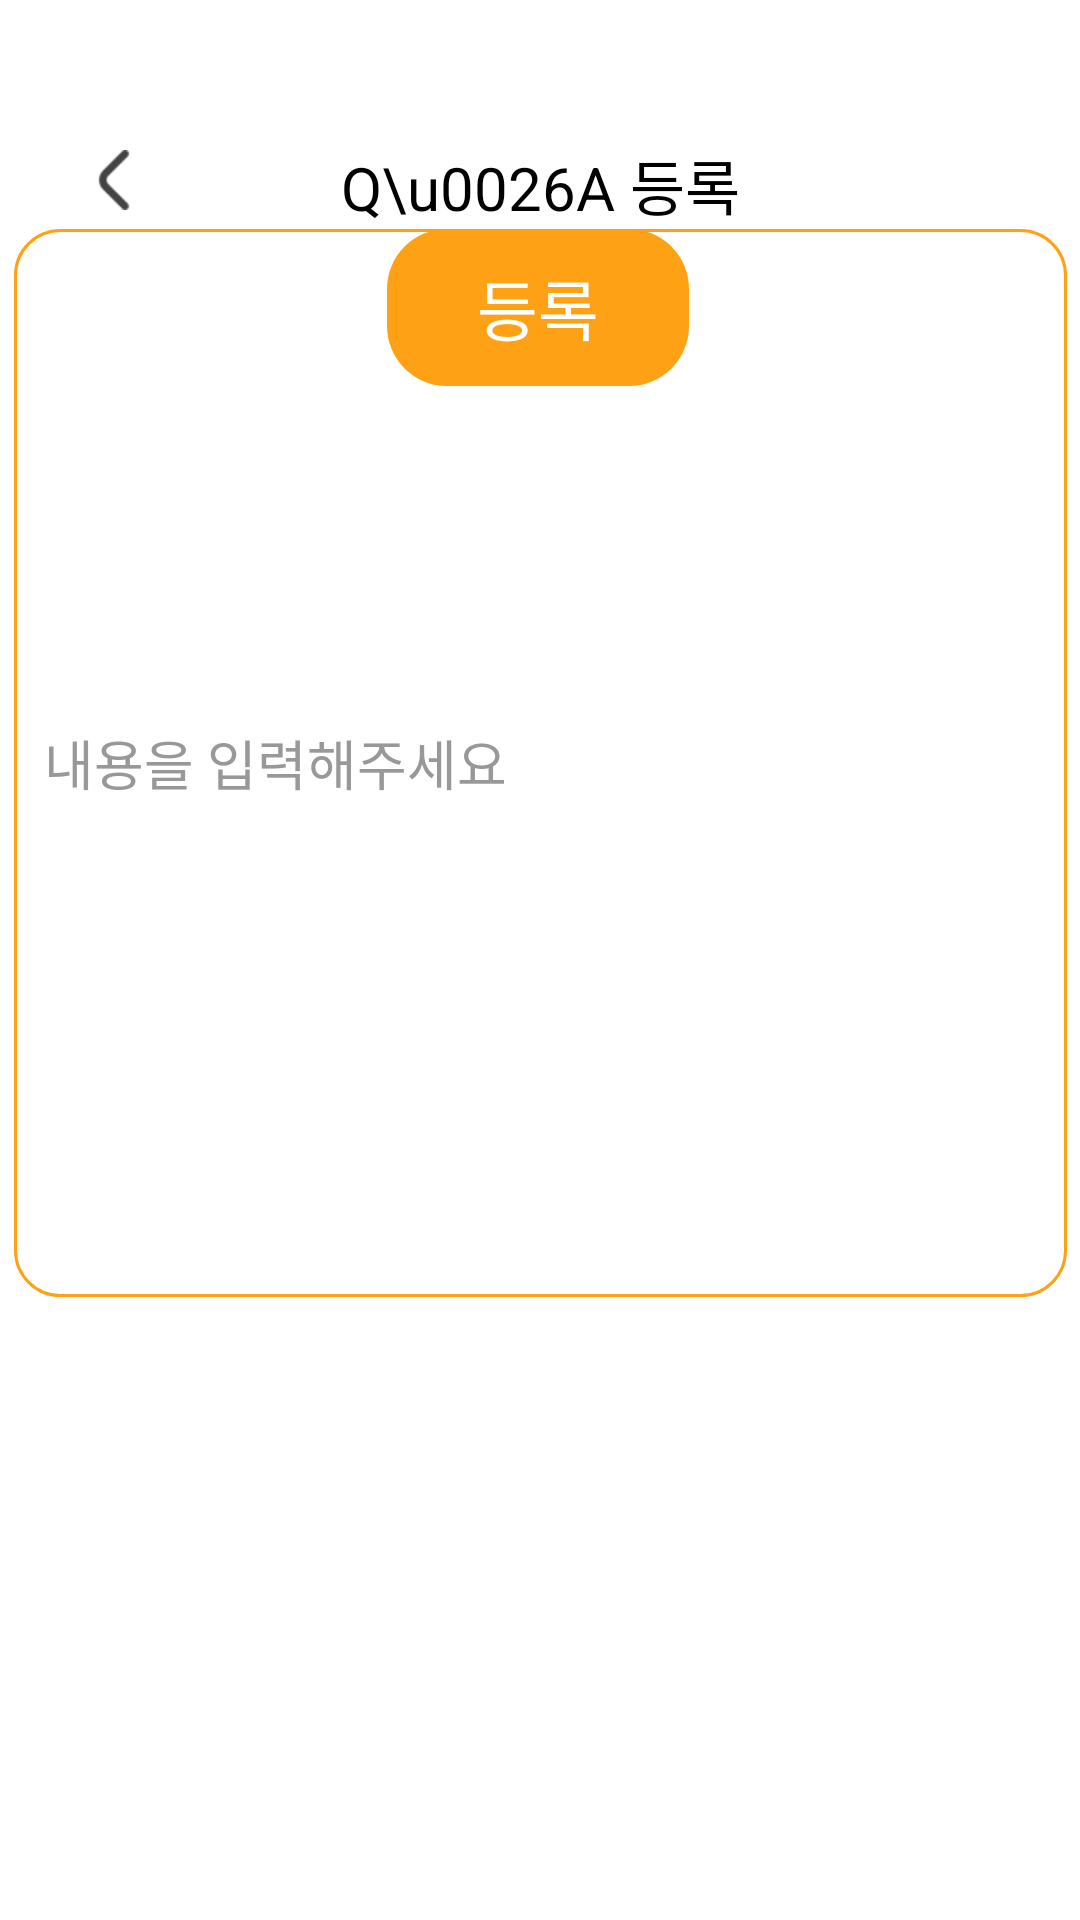

Icons on this 1080px×1920px Android screen, each with its box as Rect(x1, y1, x2, y2):
back: Rect(98, 150, 130, 210)
